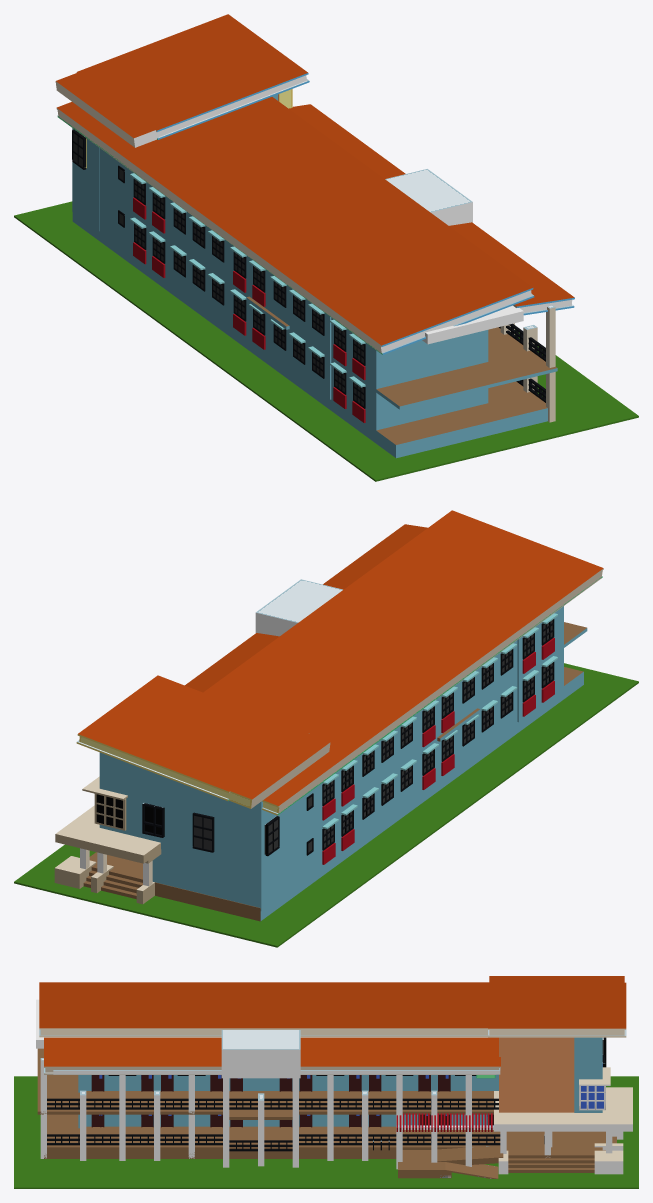
Rendered from COT.glb.
3 views of the same model, one above another, from view 1: azimuth 30°, elevation 25°; view 2: azimuth 150°, elevation 25°; view 3: azimuth 270°, elevation 25° (orthographic). The views are drawn at different scales.
Parts seen in each view (by area): view 1: cube.1434; view 2: cube.1434; view 3: cube.1434.
Part boxes in pixels (x1,y1,x2,y2): cube.1434: [14, 14, 638, 481]; cube.1434: [14, 510, 638, 947]; cube.1434: [14, 976, 638, 1188].
Size of the model in its own units: 10.44 by 5.98 by 24.81.
Materials: 15 (15 with a texture image).
